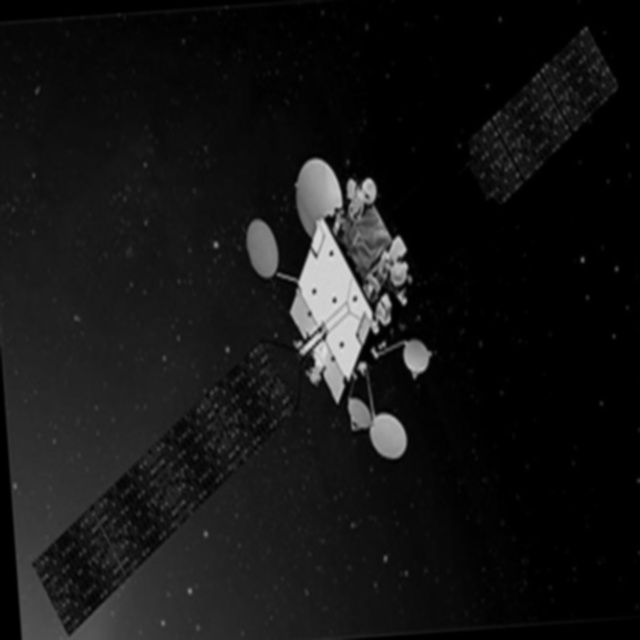medium_debris: (0, 16, 640, 639)
